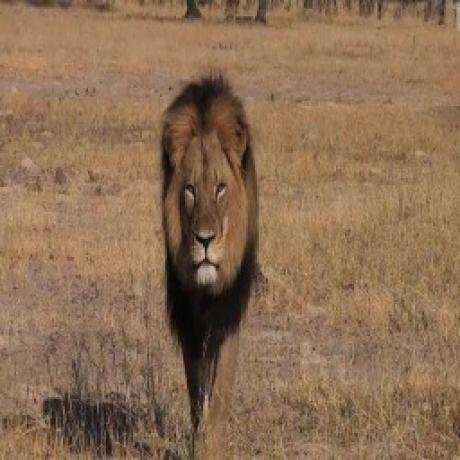Lion: (155, 67, 267, 460)
